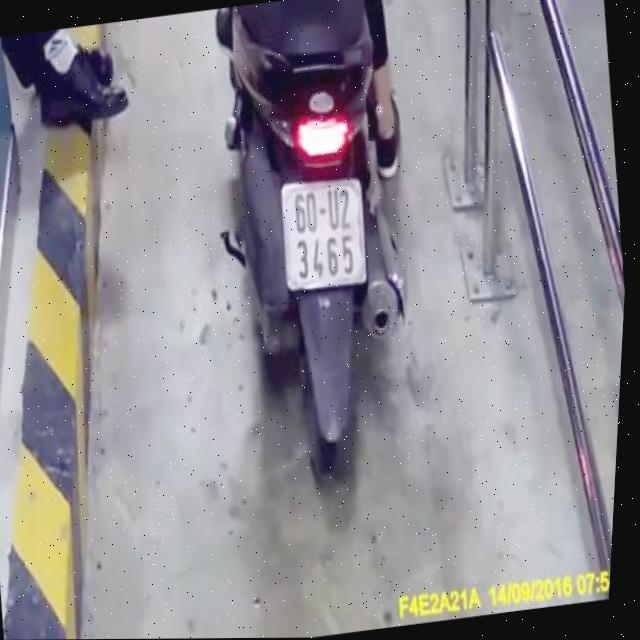motorcycle: (195, 0, 447, 498)
plate: (271, 172, 375, 294)
